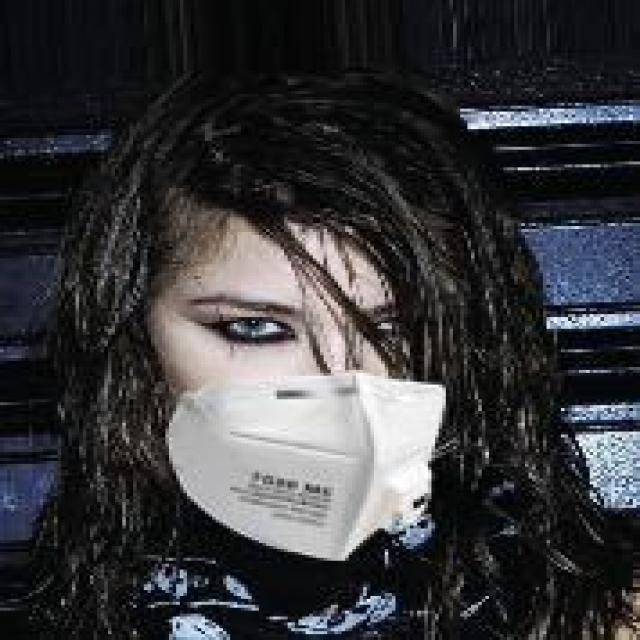mask: (97, 124, 507, 576)
